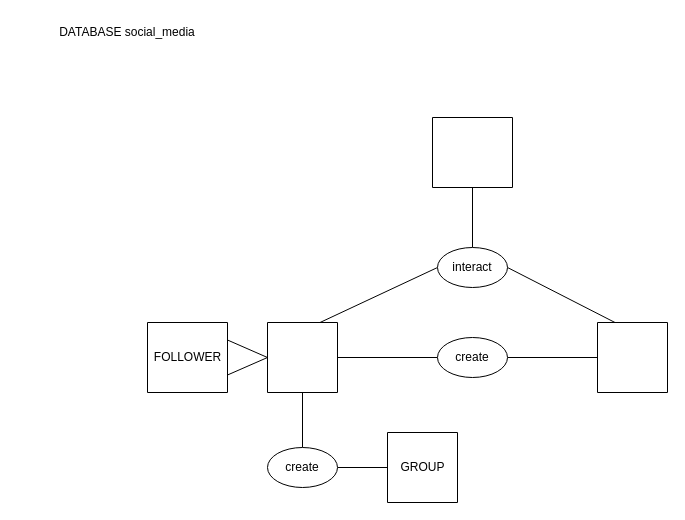
Image size: 685x520. Some labels were removed from this diagram. Here are the shapes that lost their labels. From the top down, the centre of each, then its label:
the point at 472,152: REACTION
the point at 302,357: USER
the point at 632,357: POST
